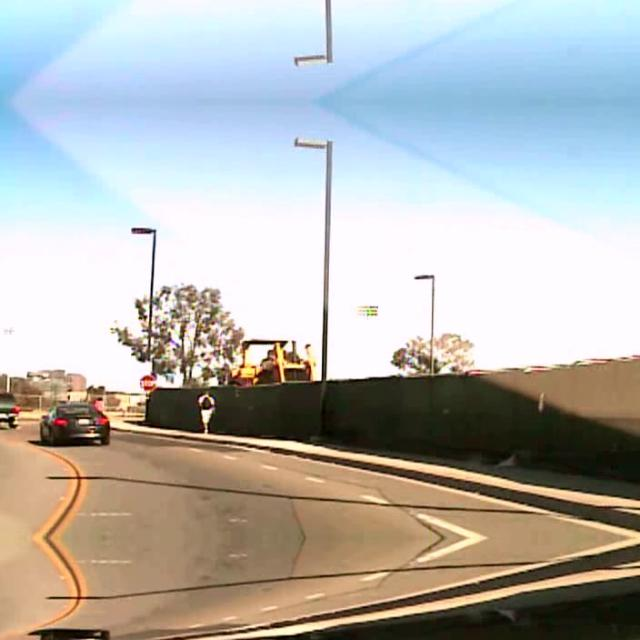stop: (138, 374, 154, 391)
